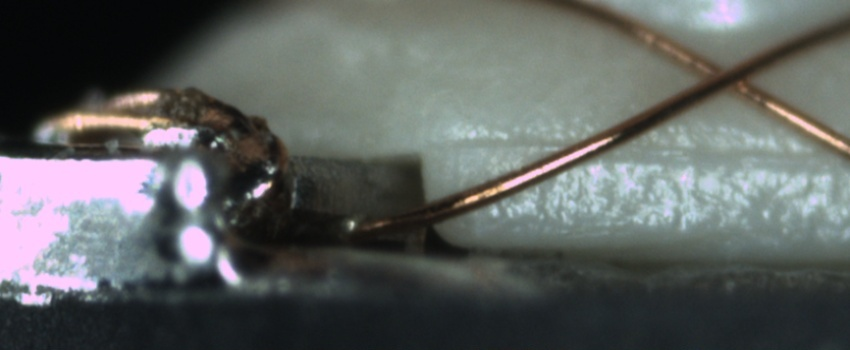CL: (679, 40, 776, 106)
DL: (451, 124, 850, 182)
TE: (33, 85, 205, 148)
